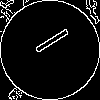I: (25, 25, 71, 62)
